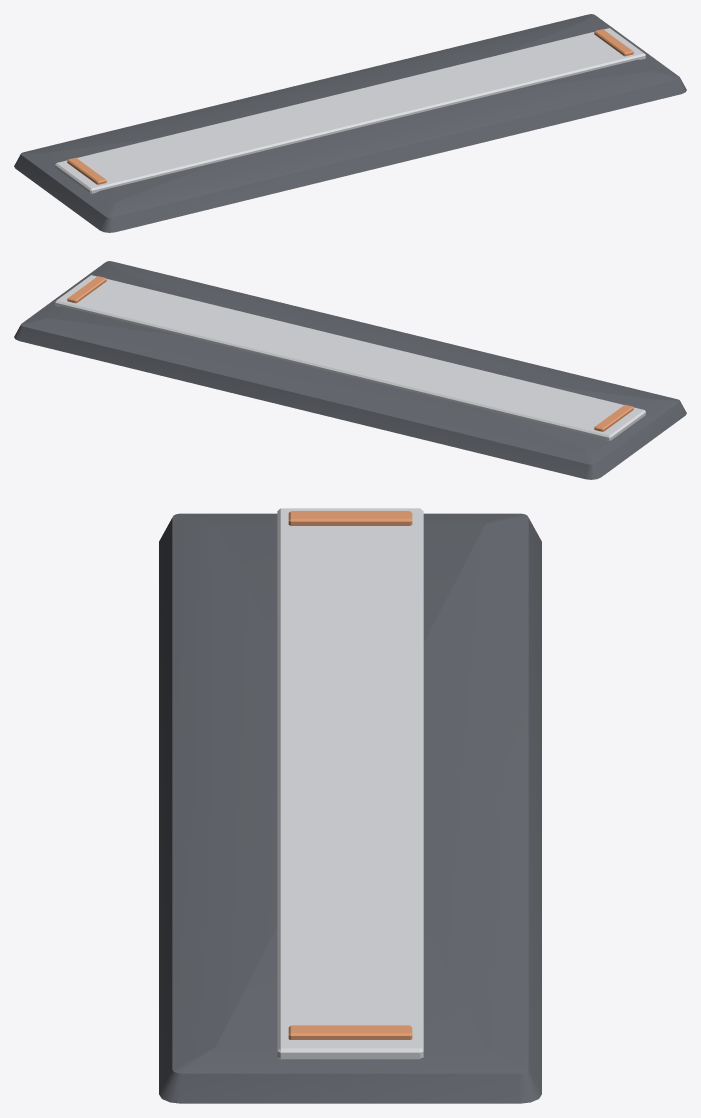
File: downtown-office-interiors-floor-cable-spine-26149773__17041.glb
The picture shows the model from 3 angles, top to bottom: view 1: azimuth 30°, elevation 25°; view 2: azimuth 150°, elevation 25°; view 3: azimuth 270°, elevation 25°; orthographic projection. The views are drawn at different scales.
Visible parts, largest first — view 1: floor-cable-spine; view 2: floor-cable-spine; view 3: floor-cable-spine.
Boxes of the visible parts, x1=… form: floor-cable-spine: x1=14, y1=14, x2=686, y2=232; floor-cable-spine: x1=14, y1=261, x2=686, y2=479; floor-cable-spine: x1=159, y1=508, x2=541, y2=1103.
Bounding box in the file's own units: 1.2 × 0.053 × 0.34.
